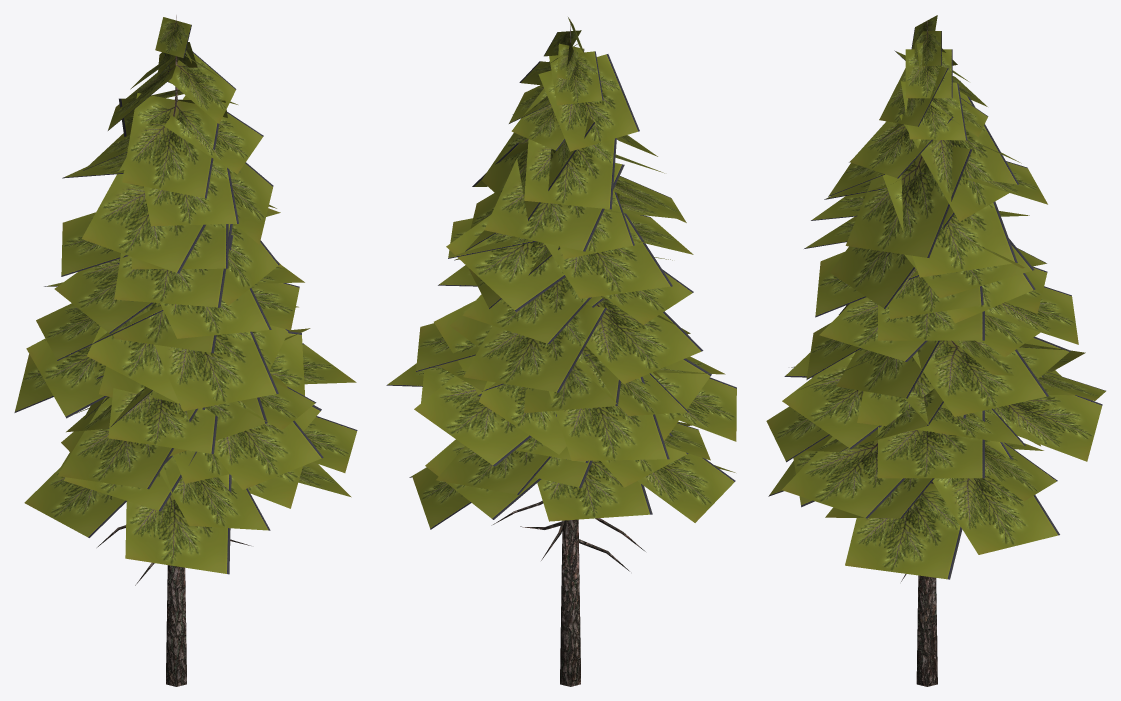
The model's file is B_Tree_04.fbx.
The picture shows the model from 3 angles, left to right: view 1: azimuth 30°, elevation 25°; view 2: azimuth 150°, elevation 25°; view 3: azimuth 270°, elevation 25°; orthographic projection.
Visible parts, largest first — view 1: B_Tree_04; view 2: B_Tree_04; view 3: B_Tree_04.
Boxes of the visible parts, left/top/right/bottom form: B_Tree_04: left=14, top=15, right=357, bottom=686; B_Tree_04: left=386, top=17, right=736, bottom=686; B_Tree_04: left=766, top=15, right=1105, bottom=686.
Size of the model in its own units: 599 by 1283 by 592.
Materials: 2 (2 with a texture image).
